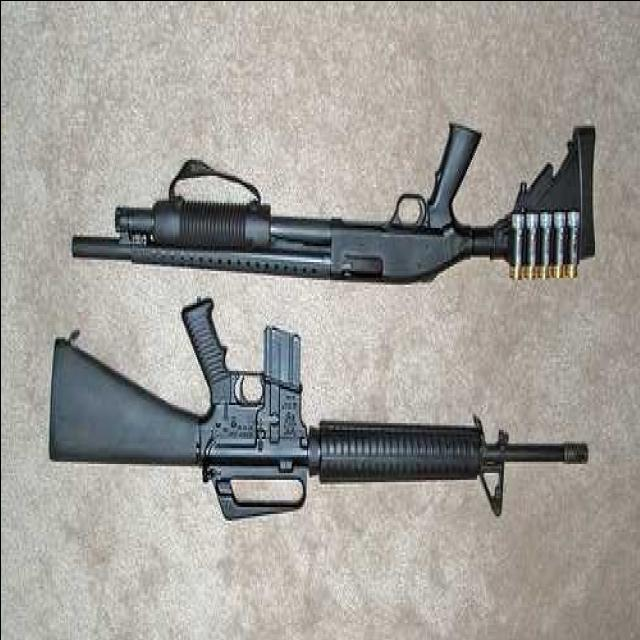heavyweapon: (64, 53, 578, 330), (31, 289, 583, 541)
